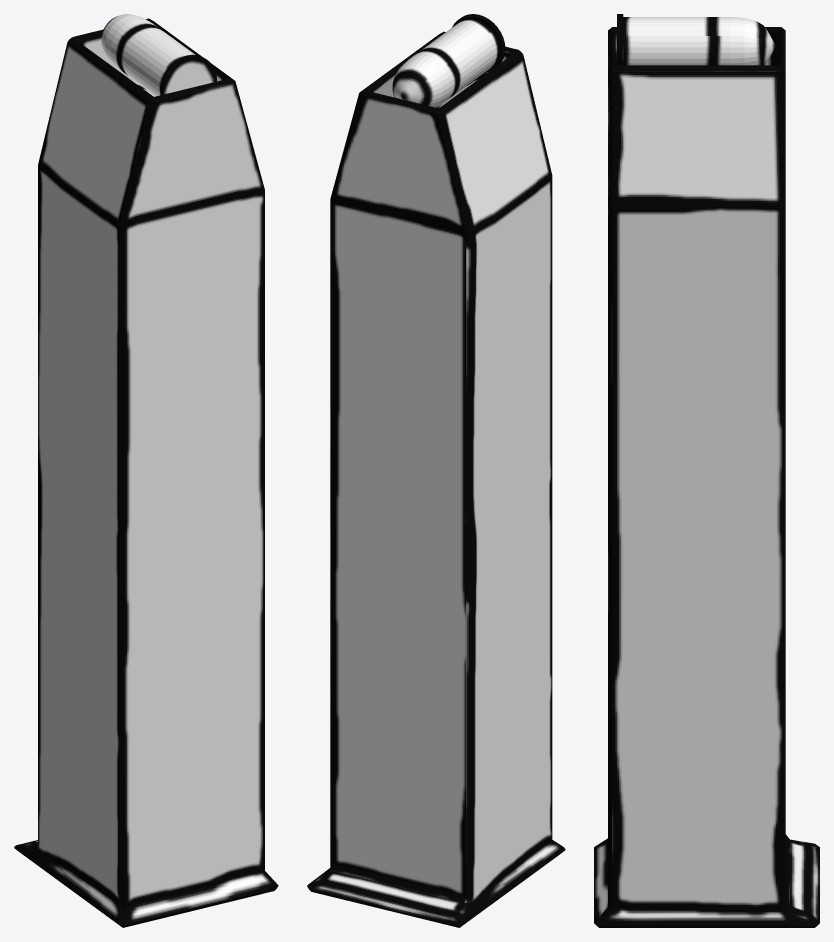
File: magazine.fbx
3 renders of one model, left to right at view 1: azimuth 30°, elevation 25°; view 2: azimuth 150°, elevation 25°; view 3: azimuth 270°, elevation 25°, orthographic. The views are drawn at different scales.
Visible parts, largest first — view 1: Cube; view 2: Cube; view 3: Cube.
Part boxes in pixels (left/top/right/bottom): Cube: left=14, top=14, right=278, bottom=927; Cube: left=307, top=14, right=565, bottom=927; Cube: left=594, top=14, right=819, bottom=927.
Bounding box in the file's own units: 41.8 × 211 × 49.5.
